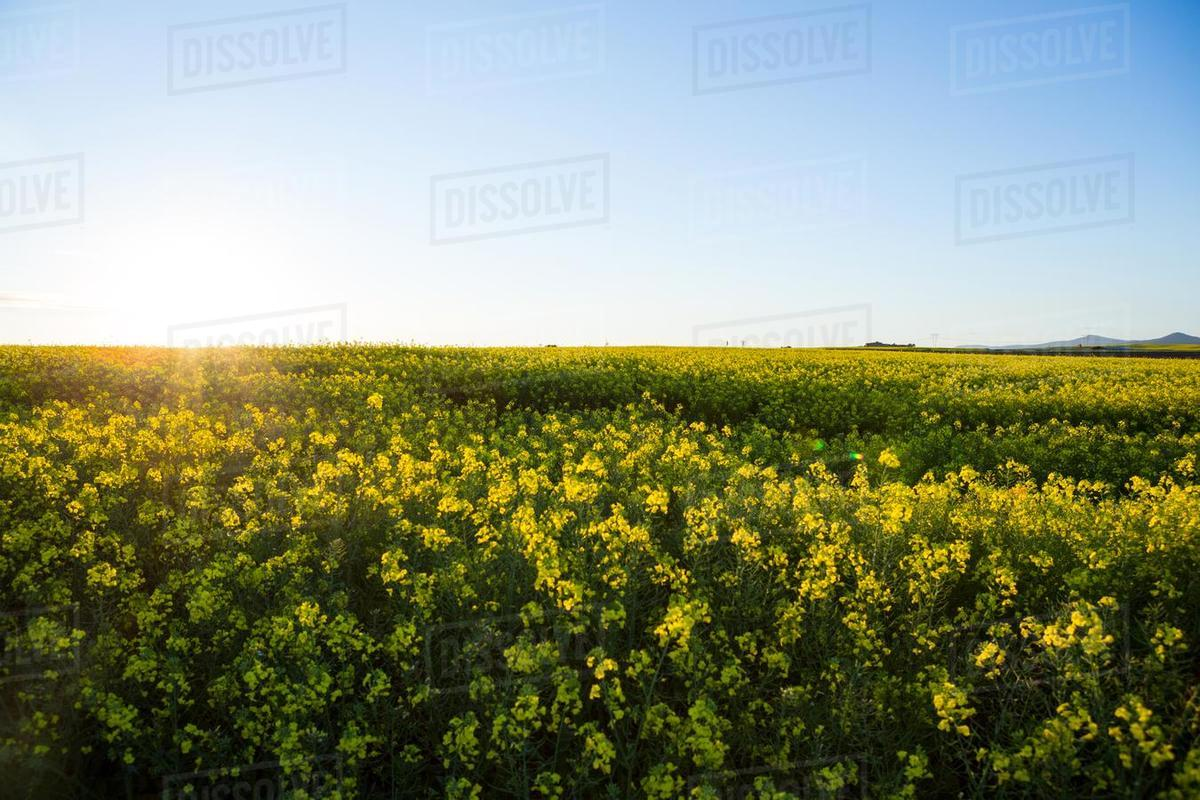mustard: (1, 358, 1200, 789)
